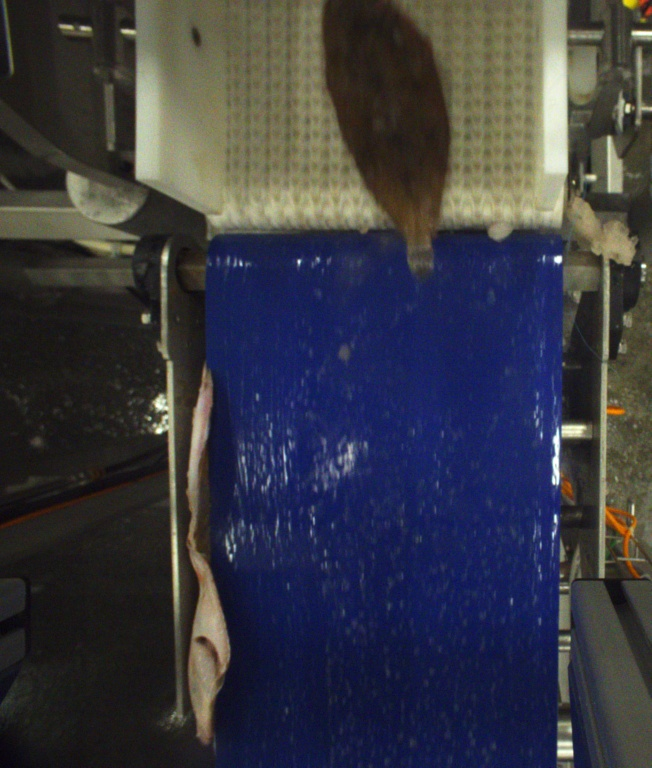SOL: (318, 0, 444, 279)
